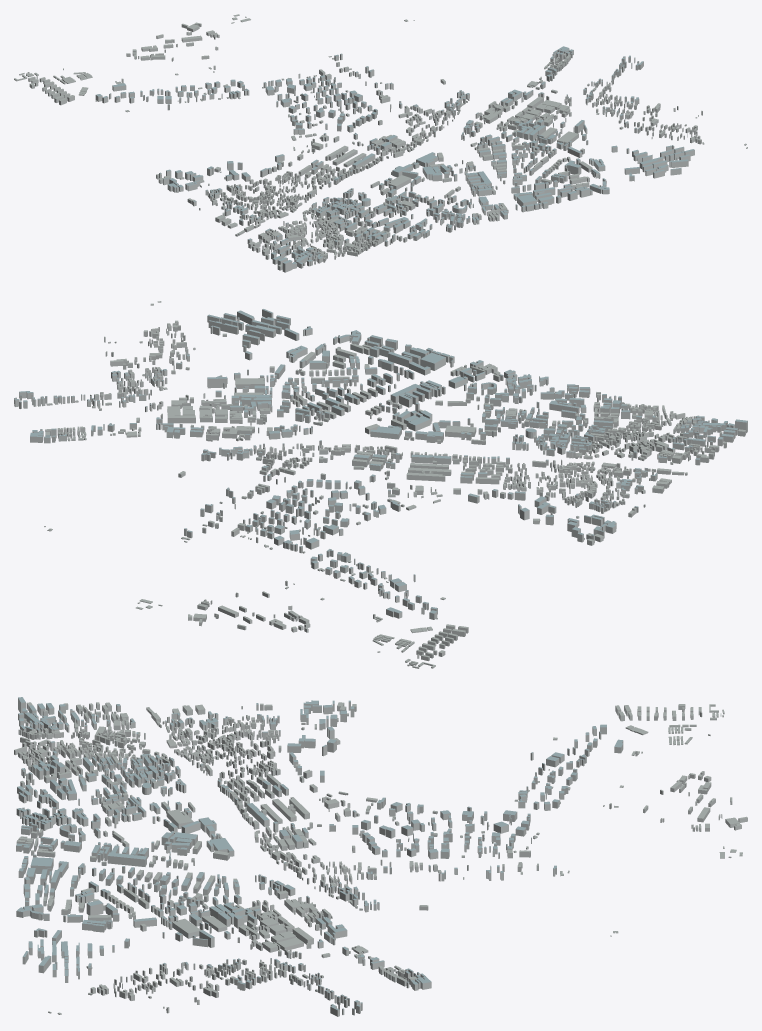
The model's file is far.glb.
The picture shows the model from 3 angles, top to bottom: view 1: azimuth 30°, elevation 25°; view 2: azimuth 150°, elevation 25°; view 3: azimuth 270°, elevation 25°; orthographic projection. The views are drawn at different scales.
Bounding box in the file's own units: 2125 × 37.24 × 2118.
